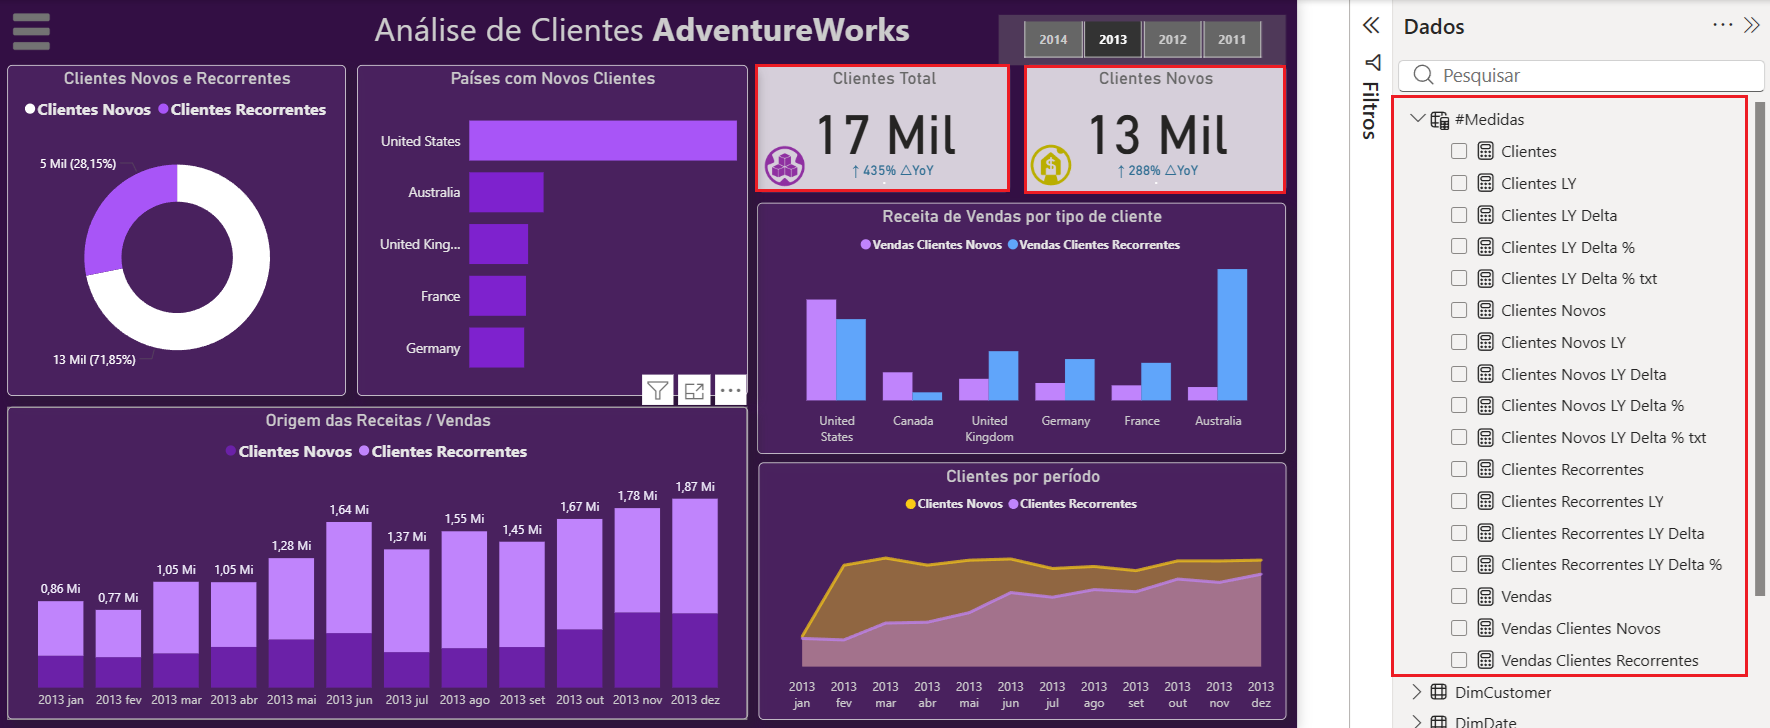

The page's visual inventory and layout, read from the dashboard file:
{"tool":"powerbi","page":{"name":"Clientes AdventureWorks","canvas":[1280,720],"ordinal":0},"visuals":[{"type":"slicer","fields":{"Values":["DimDate.CalendarYear"]},"box":[997.4,7.3,282.9,49.6],"z":0},{"type":"clusteredColumnChart","title":"Receita de Vendas por tipo de cliente","fields":{"Category":["DimGeography.EnglishCountryRegionName"],"Y":["#Measures.Vendas Clientes Novos","#Measures.Vendas Clientes Recorrentes"]},"box":[748.2,199.1,520.9,247.3],"z":1000},{"type":"card","title":"Clientes Novos","fields":{"Values":["#Measures.Clientes Novos"]},"box":[1011.8,63.6,257.3,125.5],"z":2000},{"type":"card","title":"Clientes Total","fields":{"Values":["#Measures.Clientes"]},"box":[748.2,63.6,249.1,125.5],"z":3000},{"type":"card","fields":{"Values":["#Measures.Clientes Novos LY Delta % txt"]},"box":[1062.3,149,159.6,39.9],"z":4000},{"type":"card","fields":{"Values":["#Measures.Clientes LY Delta % txt"]},"box":[799.8,149,162.3,39.9],"z":5000},{"type":"donutChart","title":"Clientes Novos e Recorrentes","fields":{"Y":["#Measures.Clientes Novos","#Measures.Clientes - novos"]},"box":[9.1,63.6,333.6,326.4],"z":6000},{"type":"clusteredBarChart","title":"Países com Novos Clientes","fields":{"Y":["#Measures.Clientes Novos"],"Category":["DimGeography.EnglishCountryRegionName"]},"box":[353.6,63.6,384.5,326.4],"z":7000},{"type":"columnChart","title":"Origem das Receitas / Vendas","fields":{"Category":["DimDate.YearMonthDesc"],"Y":["#Measures.Vendas Clientes Novos","#Measures.Vendas Clientes Recorrentes"]},"box":[8.9,400.8,729.8,307.7],"z":8000},{"type":"areaChart","title":"Clientes por período","fields":{"Category":["DimDate.YearMonthDesc"],"Y":["#Measures.Clientes Novos","#Measures.Clientes Recorrentes"]},"box":[749.1,455.5,520,253.6],"z":9000},{"type":"textbox","box":[344,0,579.9,63.8],"z":10000},{"type":"image","box":[749.1,138.2,50.9,50],"z":11000},{"type":"image","box":[1011.8,137.3,50.9,50.9],"z":12000},{"type":"image","box":[8.9,7.1,47,49.7],"z":13000},{"type":"actionButton","box":[0,0,63,63.8],"z":14000}]}

Visuals, with their boxes on the page's 1280x720 design canvas (x1, y1, x2, y2). These are canvas units, not pixel positions in the 1770x728 screenshot, which may show the page scaled, cropped or inside an application window:
slicer - DimDate.CalendarYear: 997:7:1280:57
"Receita de Vendas por tipo de cliente" clusteredColumnChart: 748:199:1269:446
"Clientes Novos" card: 1012:64:1269:189
"Clientes Total" card: 748:64:997:189
card - #Measures.Clientes Novos LY Delta % txt: 1062:149:1222:189
card - #Measures.Clientes LY Delta % txt: 800:149:962:189
"Clientes Novos e Recorrentes" donutChart: 9:64:343:390
"Países com Novos Clientes" clusteredBarChart: 354:64:738:390
"Origem das Receitas / Vendas" columnChart: 9:401:739:708
"Clientes por período" areaChart: 749:456:1269:709
textbox: 344:0:924:64
image: 749:138:800:188
image: 1012:137:1063:188
image: 9:7:56:57
actionButton: 0:0:63:64
